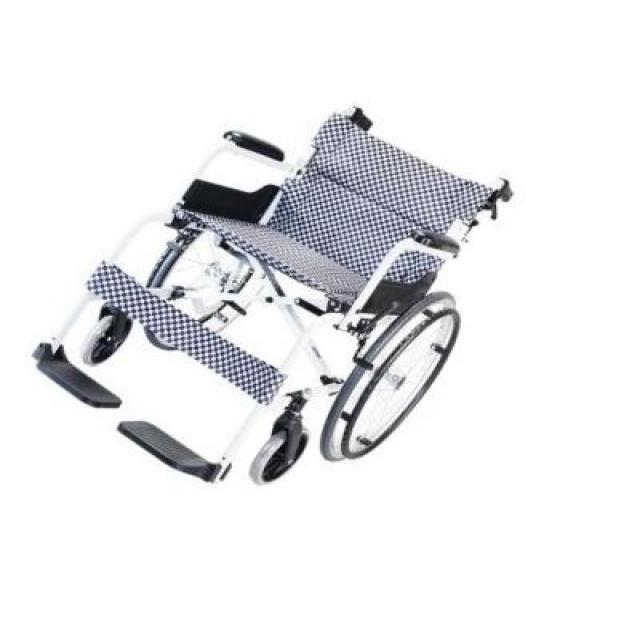wheelchair: (27, 80, 531, 510)
